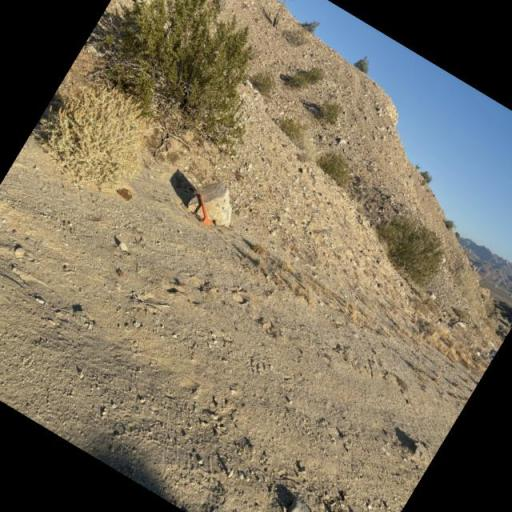mallet: (183, 189, 225, 232)
